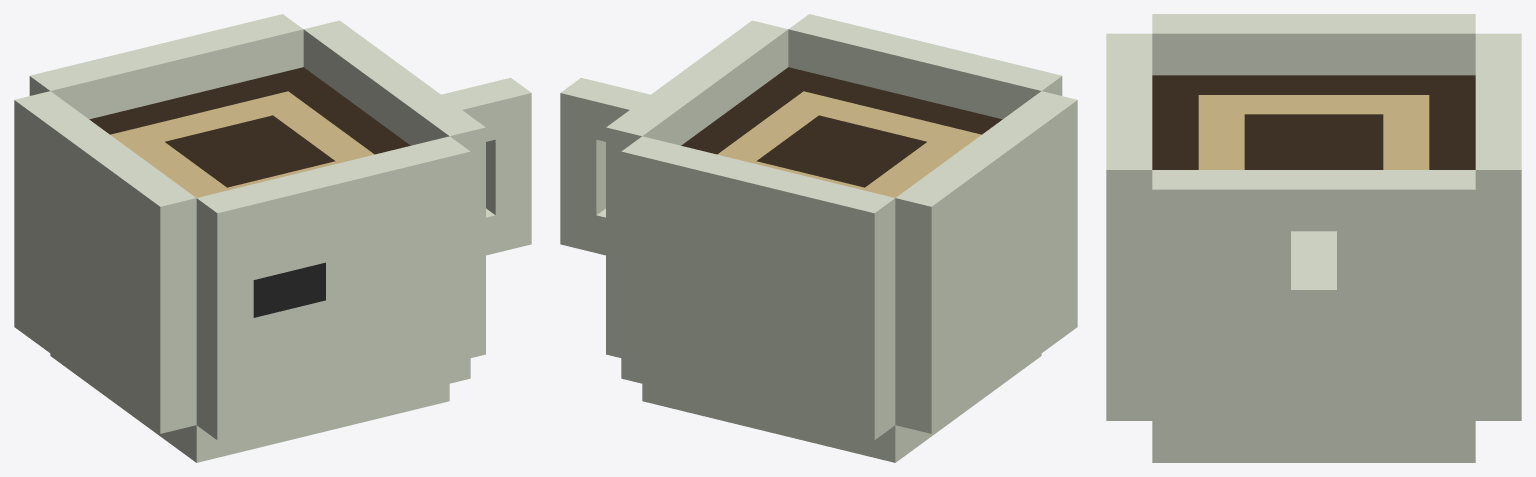
Rendered from TeaCup.fbx.
3 views of the same model, side by side, from view 1: azimuth 30°, elevation 25°; view 2: azimuth 150°, elevation 25°; view 3: azimuth 270°, elevation 25° (orthographic). The views are drawn at different scales.
Visible parts, largest first — view 1: Cube.008; view 2: Cube.008; view 3: Cube.008.
Part boxes in pixels (box(x1,y1,x2,y2)): Cube.008: box(14, 14, 531, 462); Cube.008: box(560, 14, 1077, 462); Cube.008: box(1106, 14, 1521, 462).
Bounding box in the file's own units: 120 × 70 × 90.
